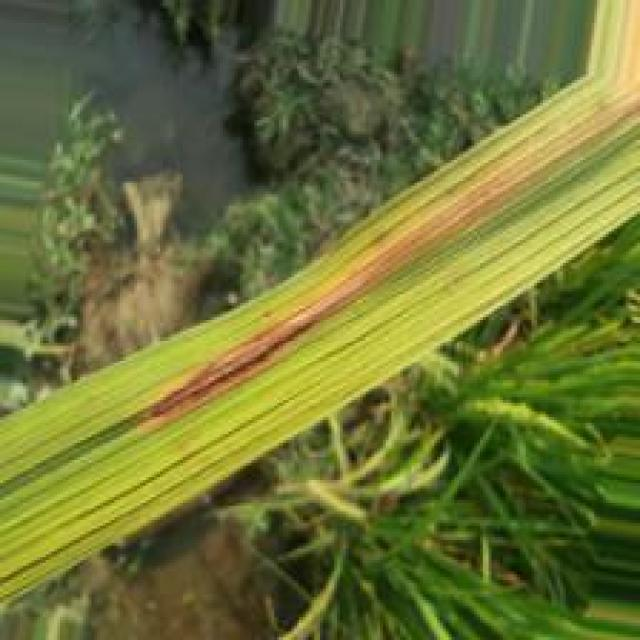Rice Tungro: (139, 162, 512, 428)
